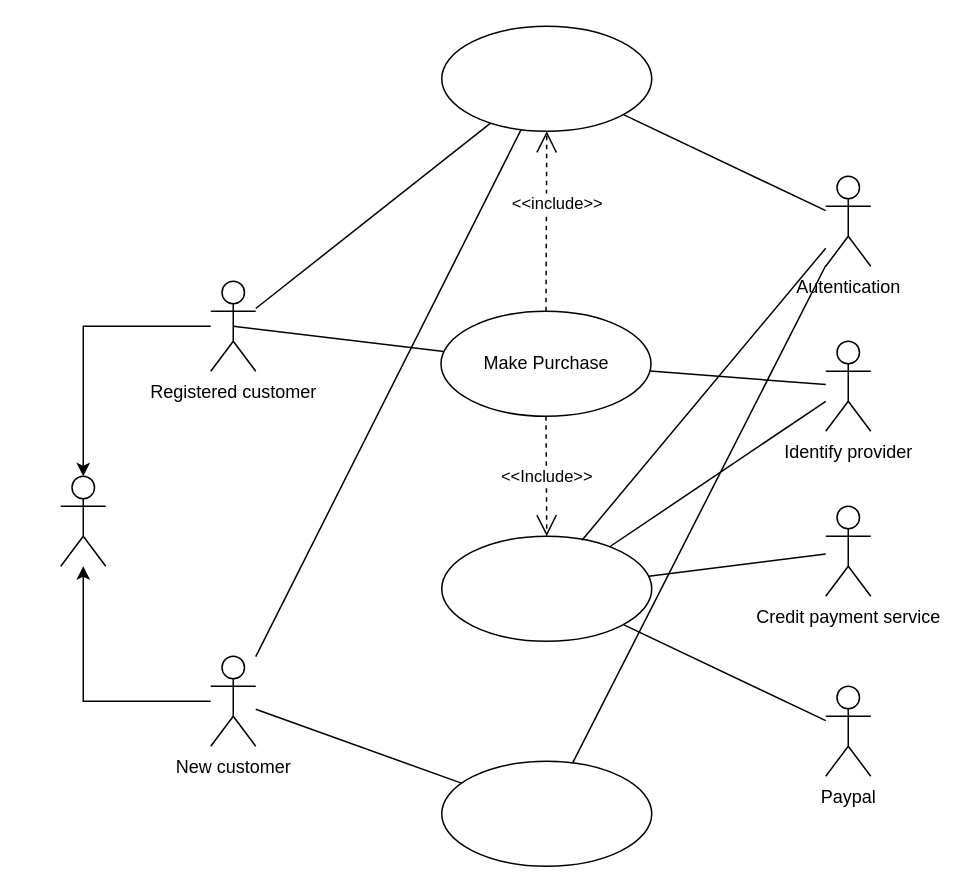
Image size: 966x893. Some labels were removed from this diagram. Here are the shapes that lost their labels. From the top down, the box of each, then its label:
(440, 25, 652, 131): View items
(59, 475, 106, 566): Web customer
(440, 535, 652, 641): Checkout
(440, 760, 652, 866): Client register
